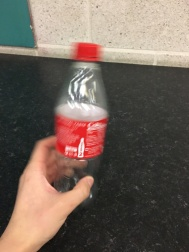bottle_red: (43, 41, 120, 204)
